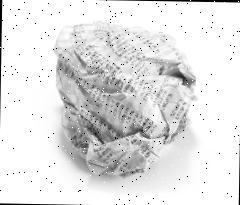paper: (51, 19, 198, 178)
